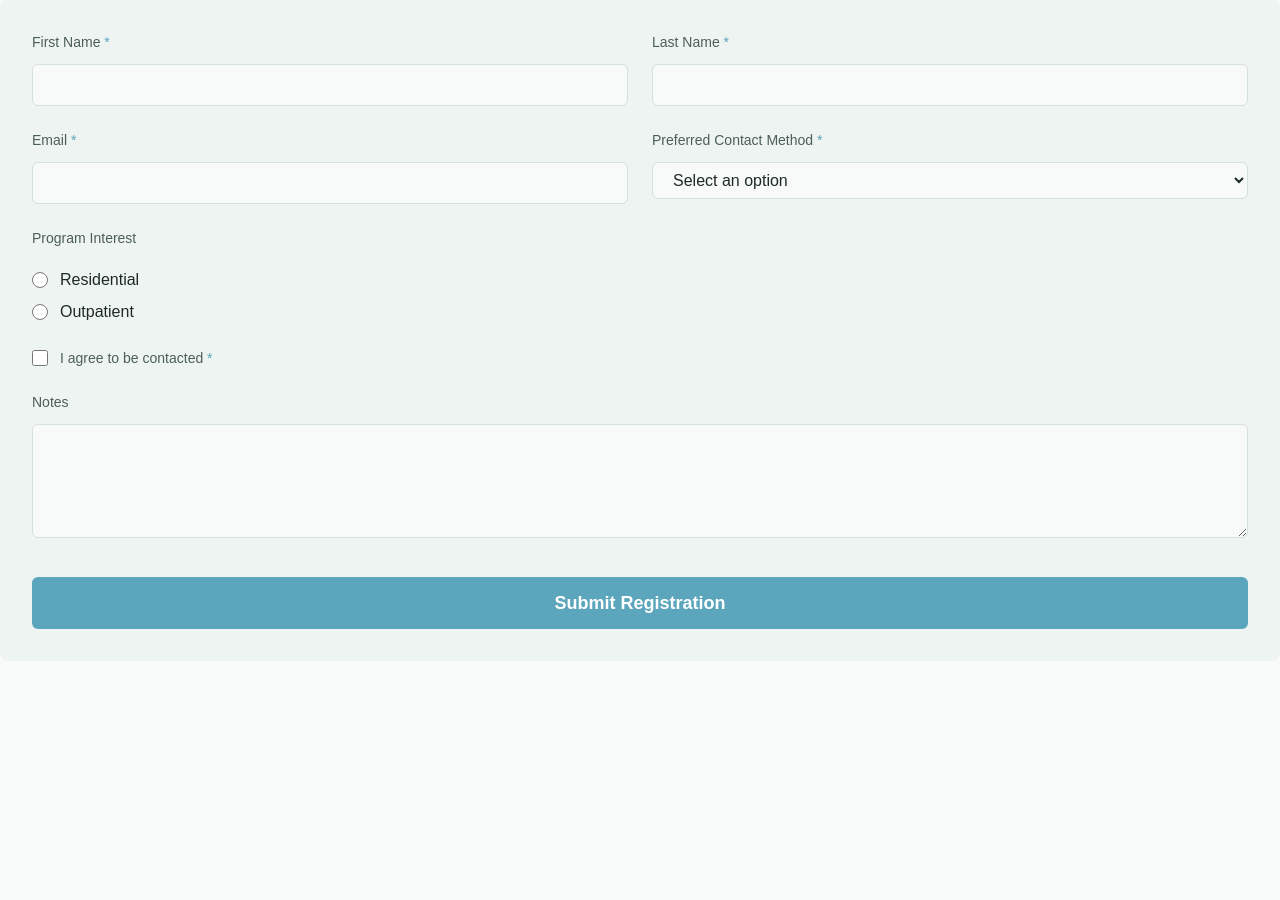
Test: RegistrationForm › shows an error message when submission fails
This screenshot has width=1280, height=900.
Type "John" into the field labelled "First Name *" at x=330, y=85, box [32,64,628,106]
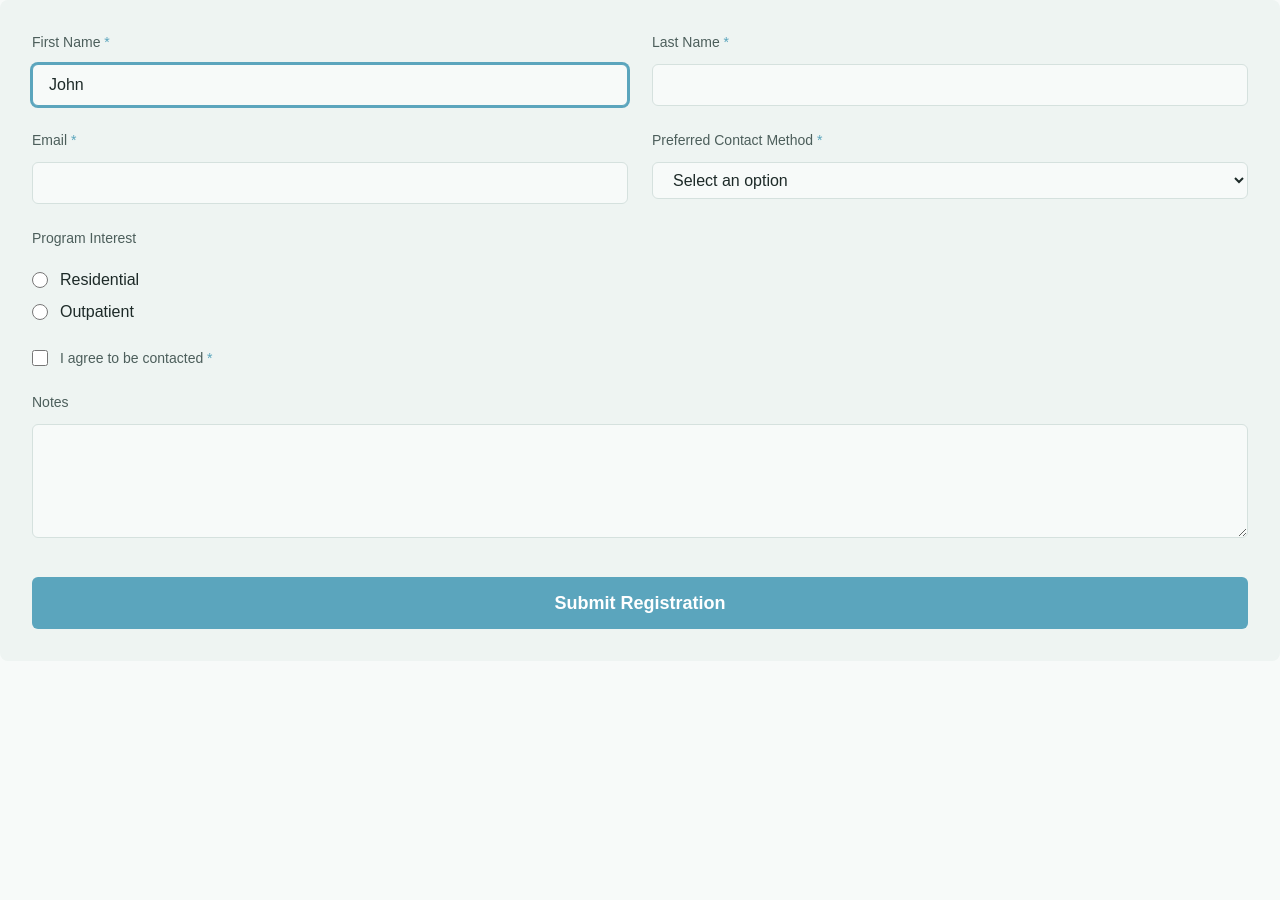
Type "Doe" into the field labelled "Last Name *" at x=950, y=85, box [652,64,1248,106]
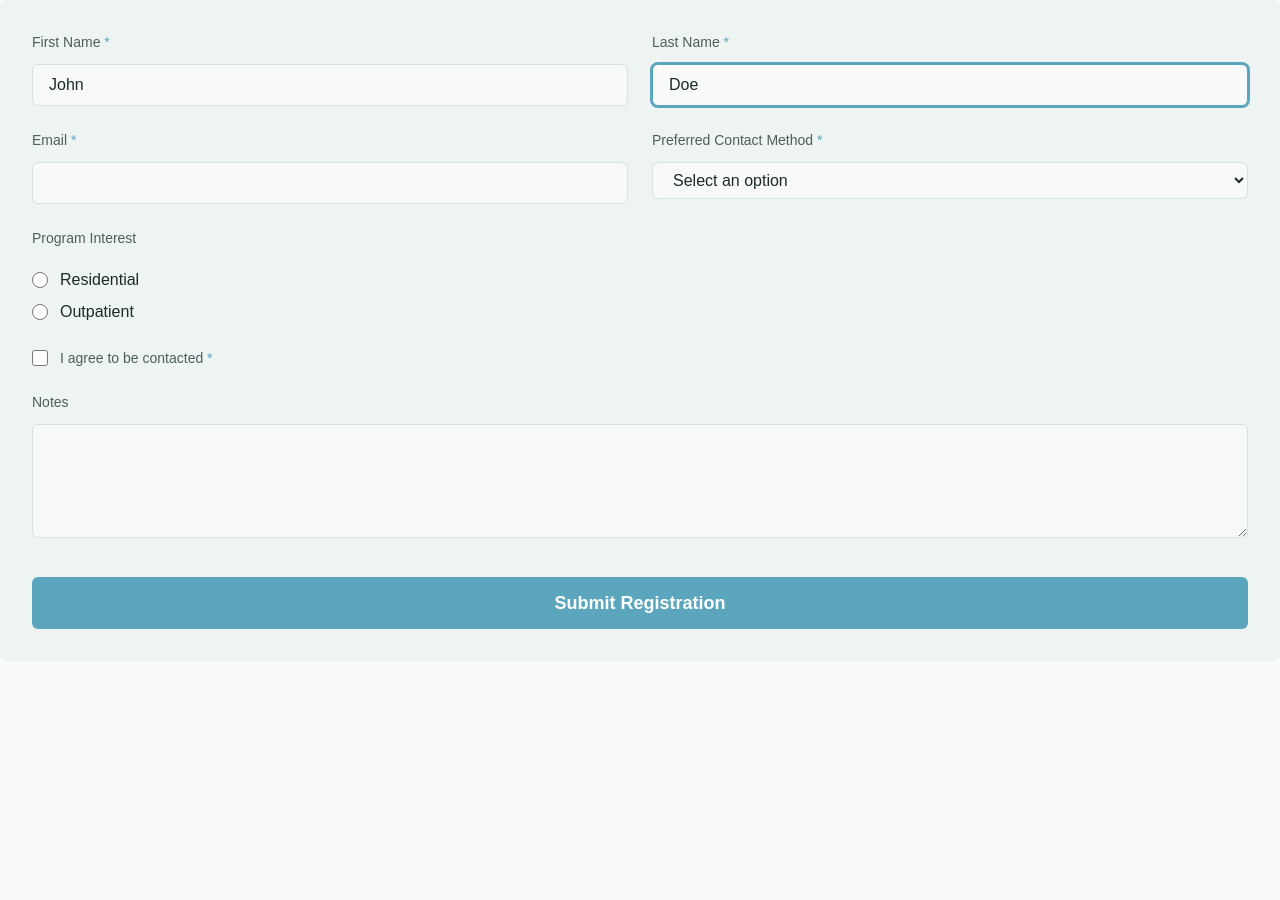
Type "john.doe@example.com" into the field labelled "Email *" at x=330, y=183, box [32,162,628,204]
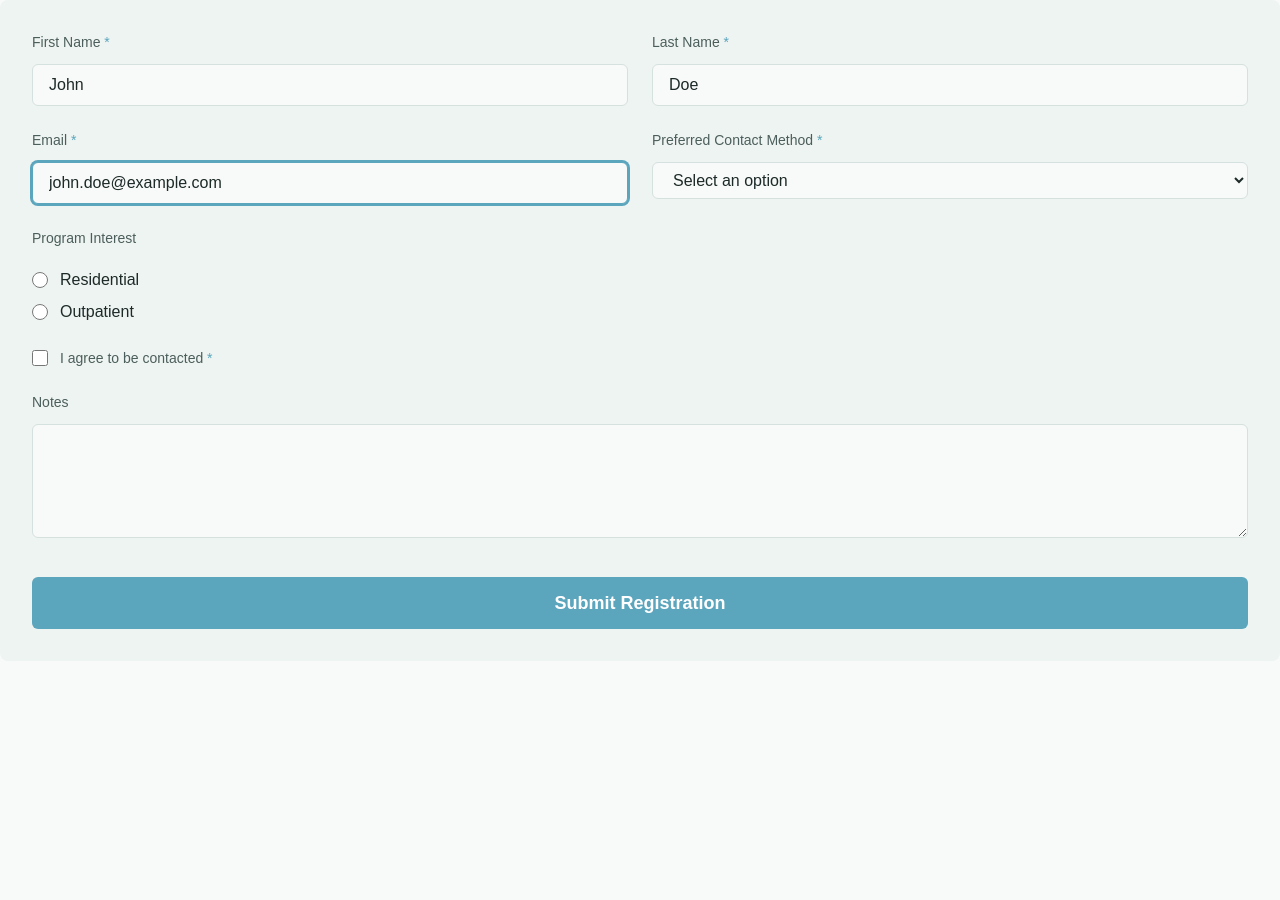
Select "Phone" in the dropdown labelled "Preferred Contact Method *" at x=950, y=180, box [652,162,1248,199]
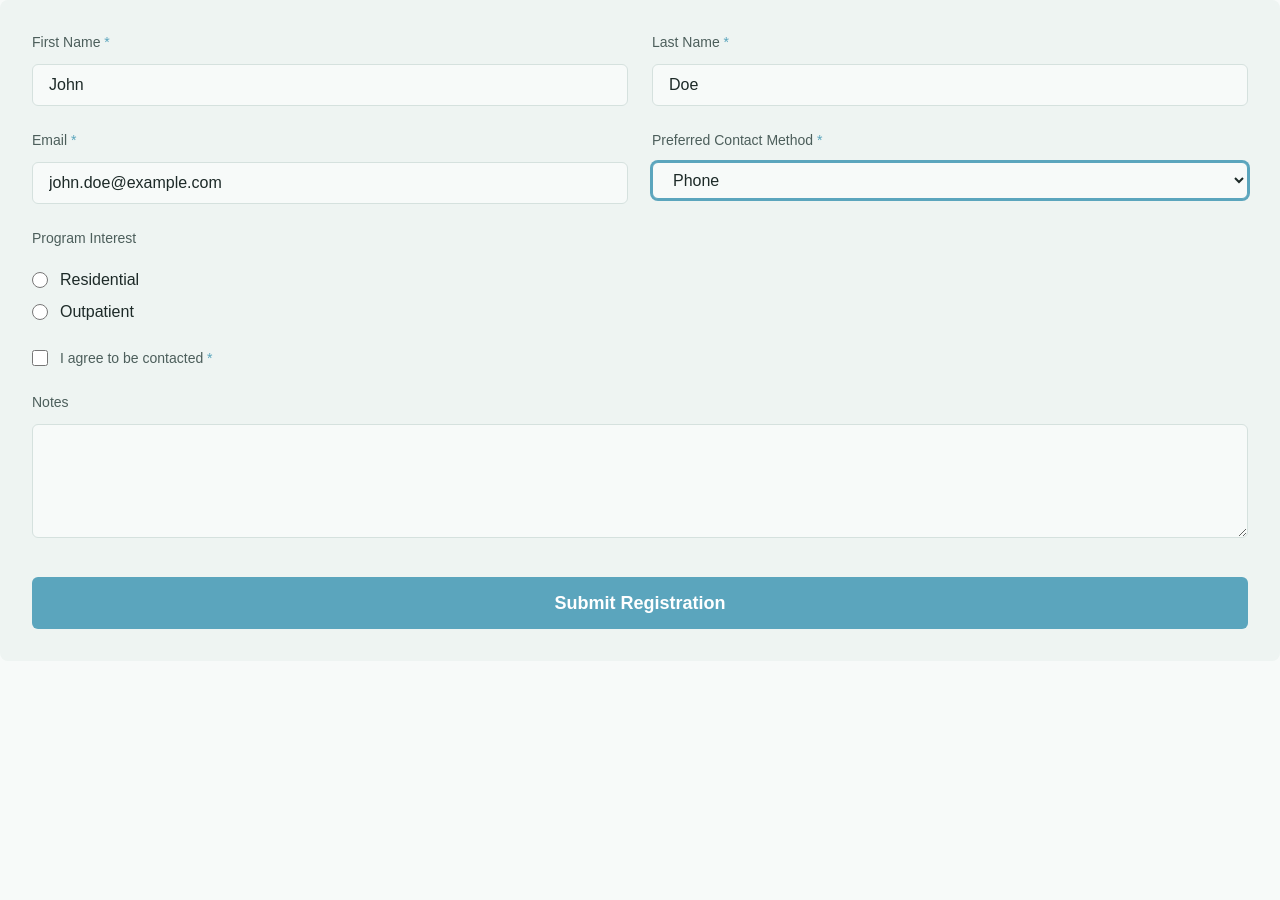
Click the checkbox labelled "I agree to be contacted *" at x=40, y=358, box [32,350,48,366]
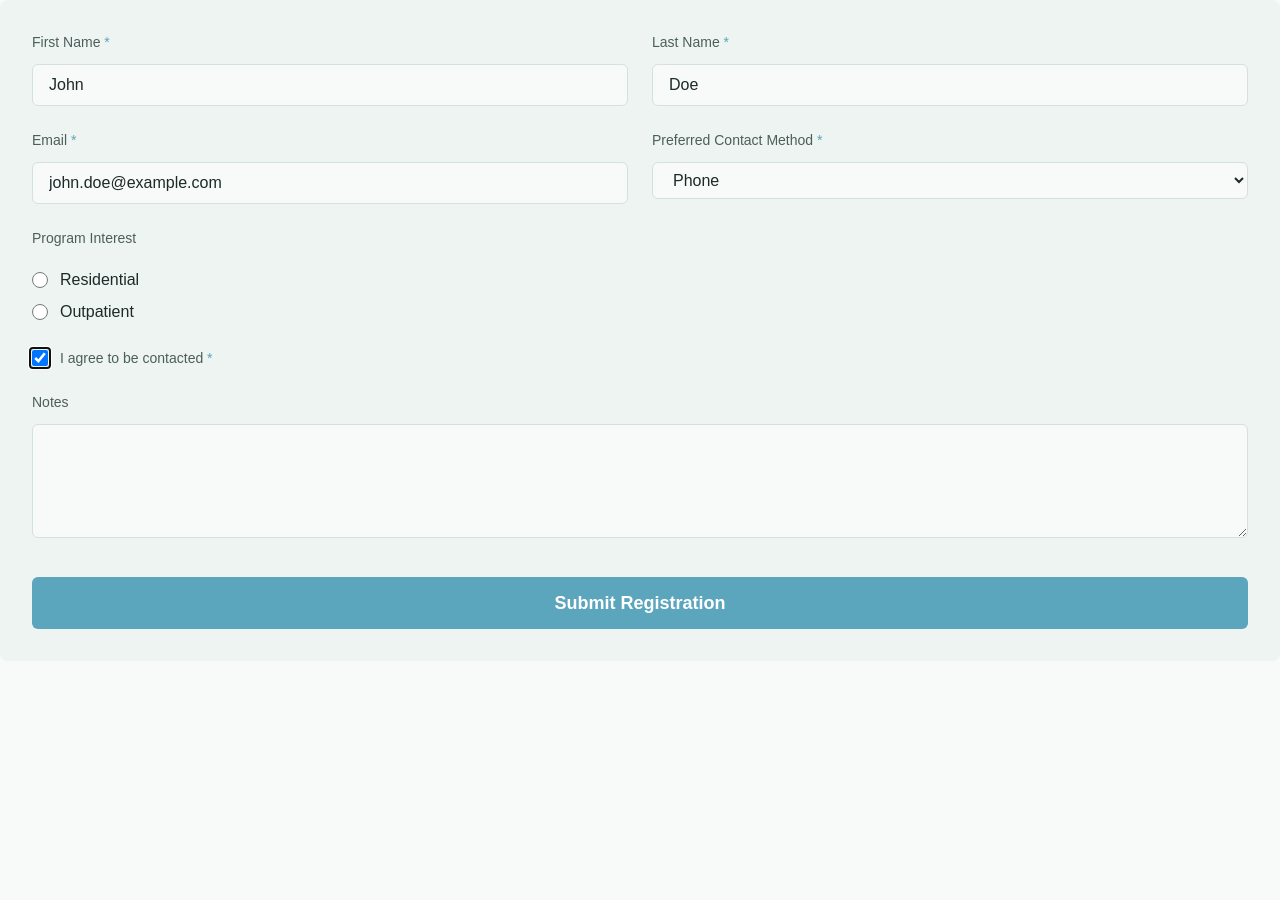
Click the button "Submit Registration" at x=640, y=603, box [32,577,1248,629]
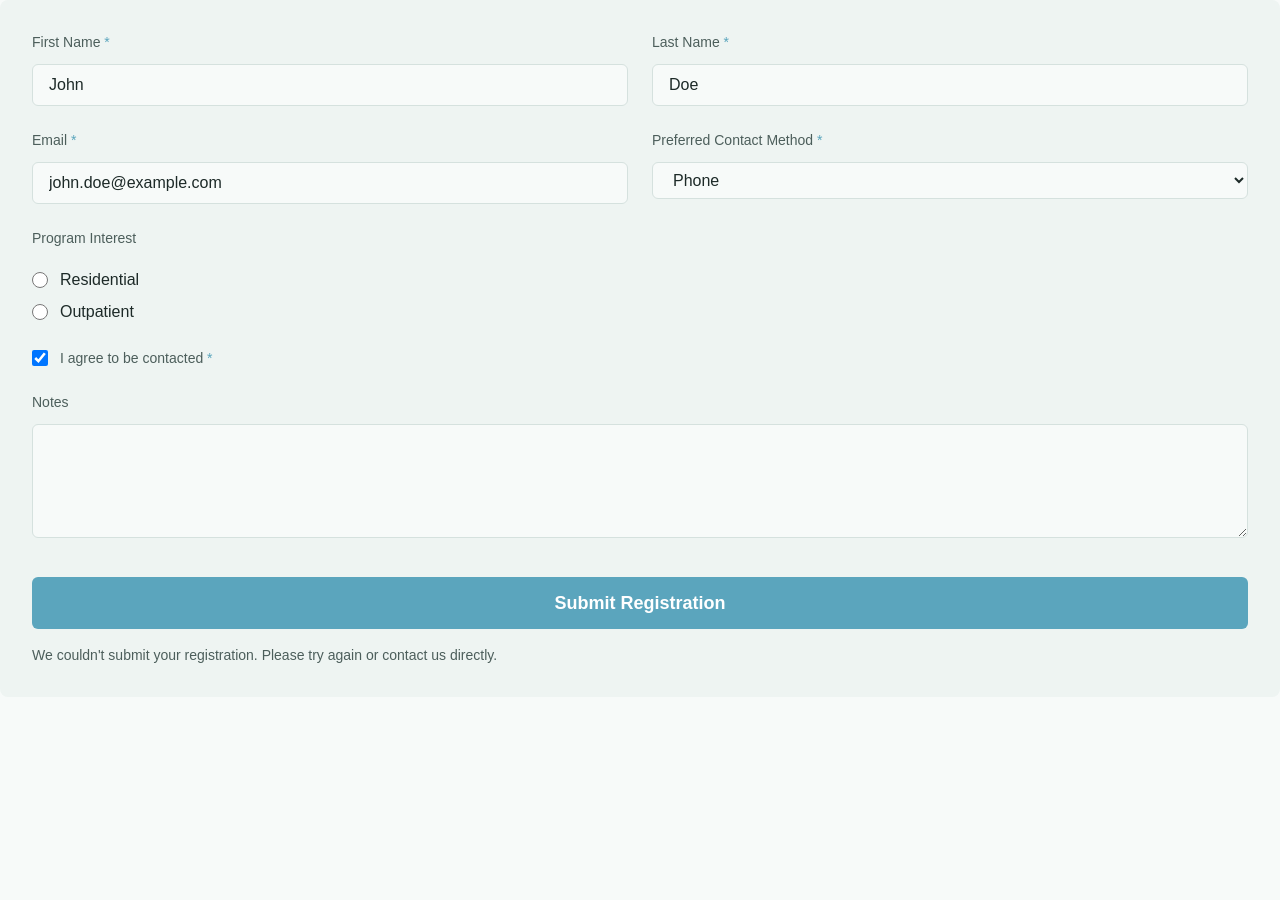
Check: the text "We couldn't submit your registration. Please try again or contact us directly." is shown, box [32,647,497,663]
